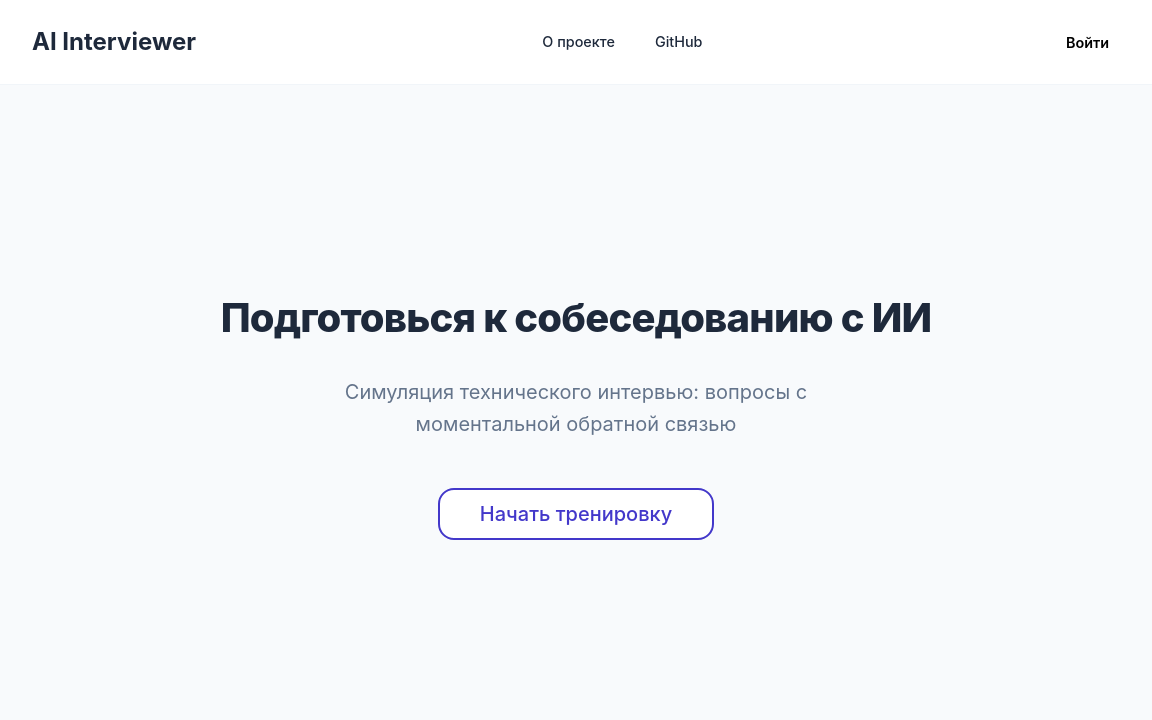
it: LandingPage component › opens modal on login click
Step 1. Click the button "Войти" → point(1088, 42), box [1049,25,1126,59]
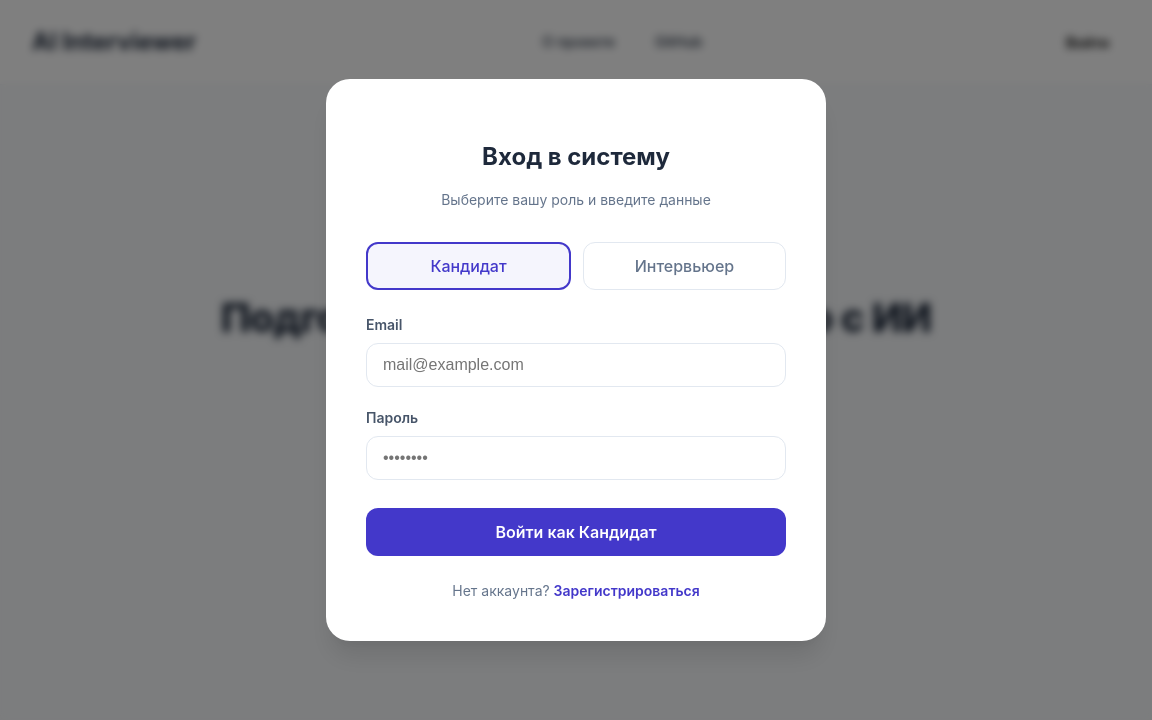
Result: the heading "Вход в систему" is shown at [482,142,670,171]
